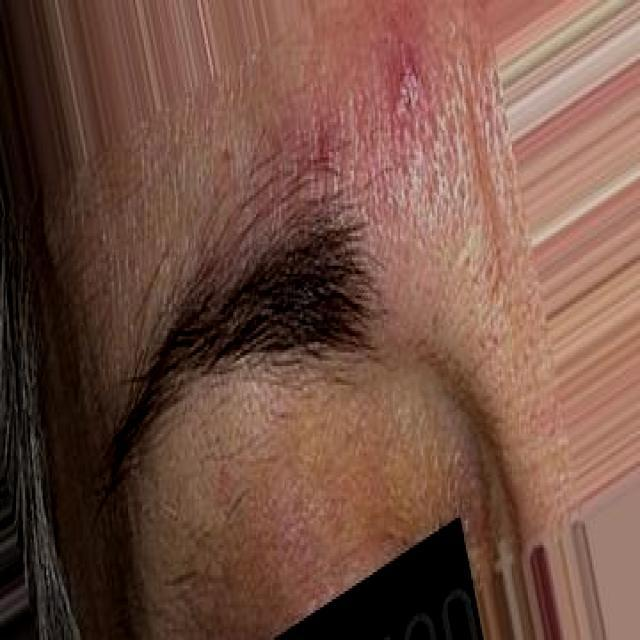Rosacea: (268, 3, 486, 182)
